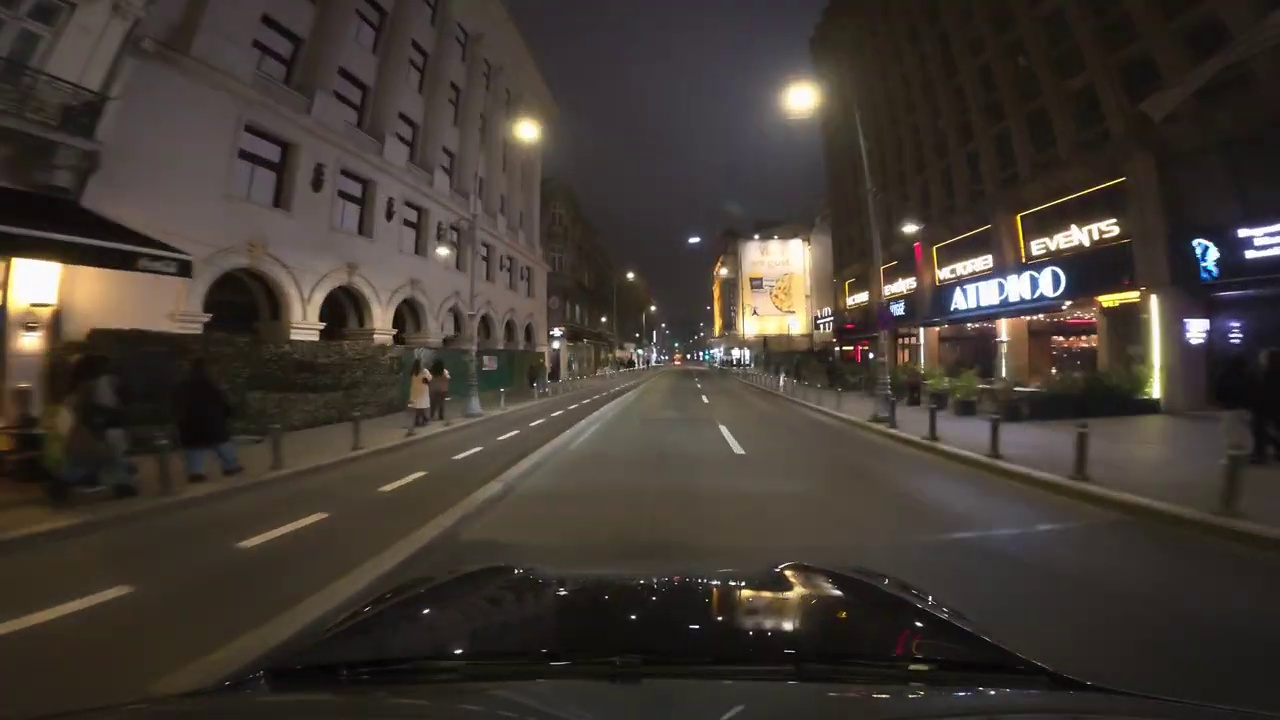acesa: (783, 82, 820, 116), (510, 116, 542, 147), (899, 219, 921, 240), (684, 231, 704, 251), (623, 267, 642, 287)
